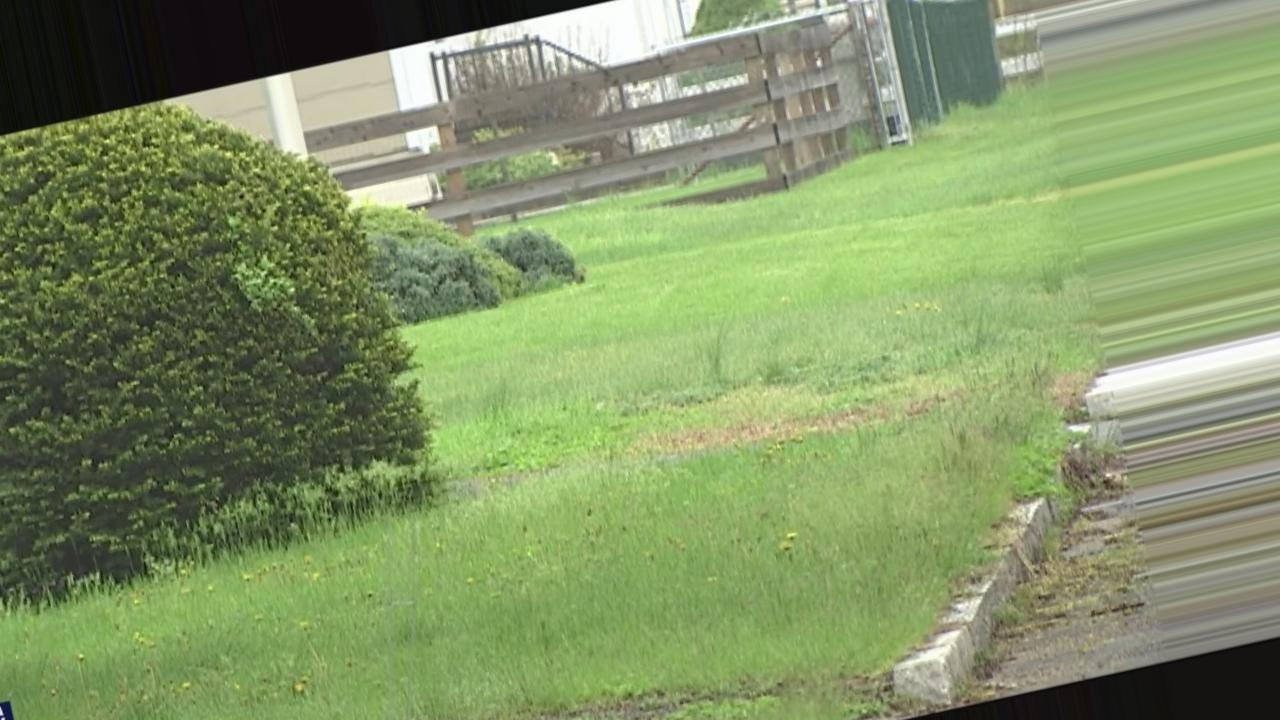patch: (621, 390, 914, 468), (443, 431, 615, 491), (929, 180, 1068, 224)
